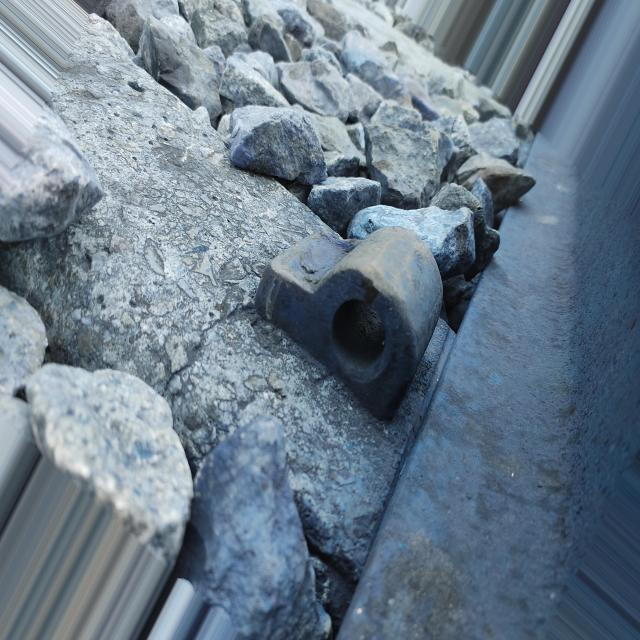Missing Fastener: (248, 216, 452, 420)
